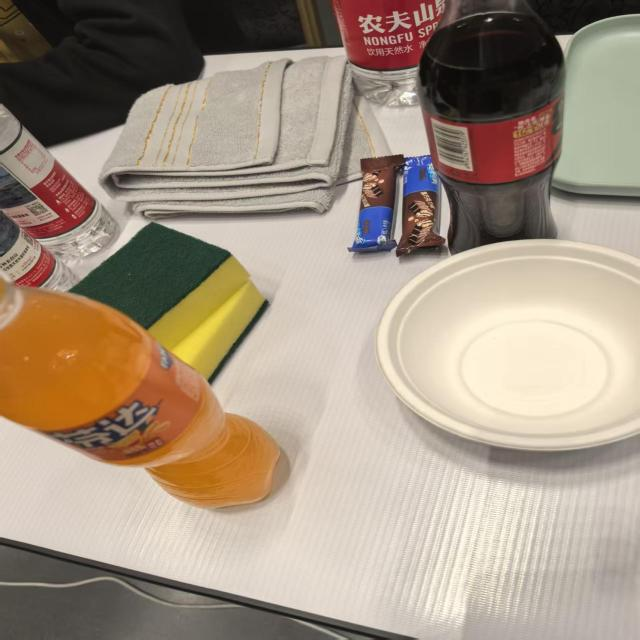orange: (48, 390, 185, 464)
